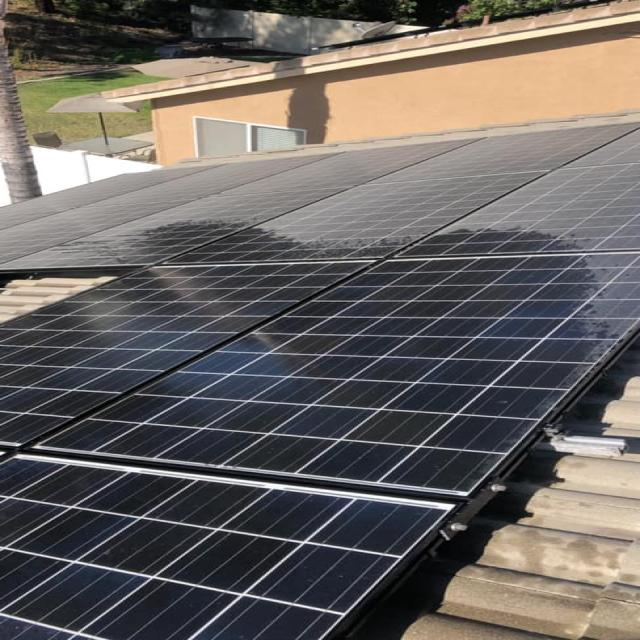clean-solar-panel: (2, 124, 637, 640)
